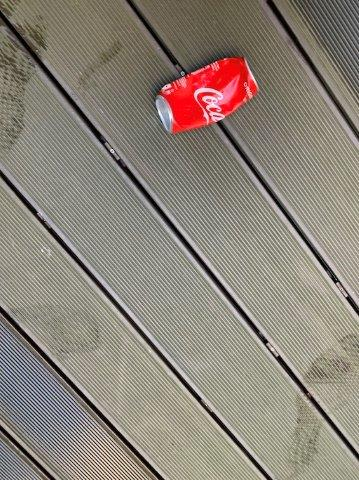kaleng: (158, 57, 257, 134)
